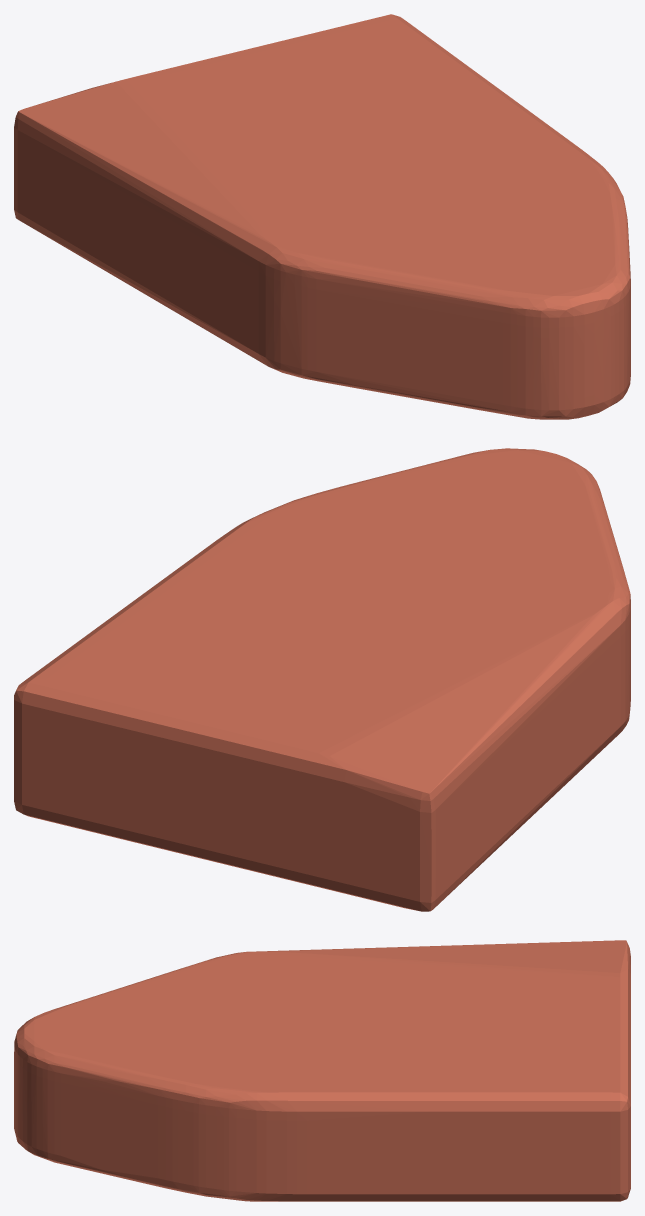
Rendered from left_knee_link_part_9.obj.
3 views of the same model, one above another, from view 1: azimuth 30°, elevation 25°; view 2: azimuth 150°, elevation 25°; view 3: azimuth 270°, elevation 25° (orthographic). The views are drawn at different scales.
Size of the model in its own units: 0.0756 by 0.023 by 0.1176.
